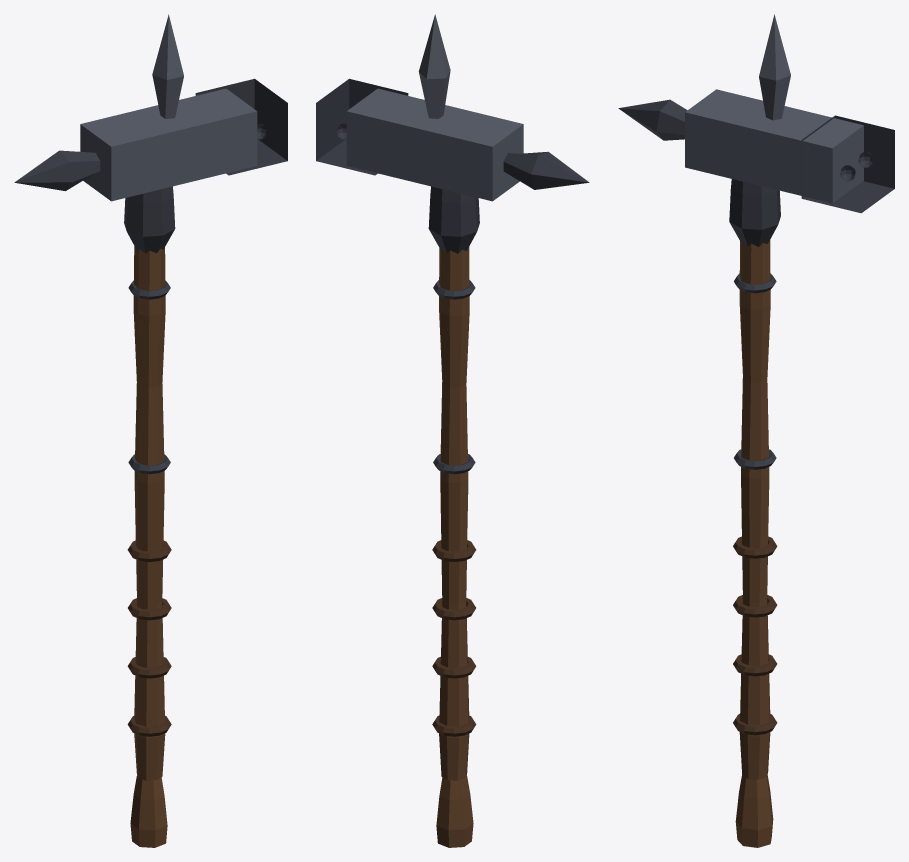
File: staff_warhammer.glb
The picture shows the model from 3 angles, left to right: view 1: azimuth 30°, elevation 25°; view 2: azimuth 150°, elevation 25°; view 3: azimuth 330°, elevation 25°; orthographic projection.
Visible parts, largest first — view 1: Wh_Shaft, Wh_Head, Wh_Face, Wh_Neck, Wh_Butt, Wh_BackSpike, Wh_TopSpike, Wh_Wrap2, Wh_Wrap3, Wh_Wrap1; view 2: Wh_Head, Wh_Shaft, Wh_Face, Wh_Neck, Wh_Butt, Wh_BackSpike, Wh_TopSpike, Wh_Wrap2, Wh_Wrap3, Wh_Wrap1; view 3: Wh_Head, Wh_Shaft, Wh_Face, Wh_Neck, Wh_Butt, Wh_TopSpike, Wh_BackSpike, Wh_Wrap2, Wh_Wrap3, Wh_Wrap1.
Boxes of the visible parts, box(x1,y1,x2,y2) form: Wh_Shaft: box(133, 246, 165, 780); Wh_Head: box(80, 88, 257, 201); Wh_Face: box(195, 78, 287, 175); Wh_Neck: box(124, 186, 175, 253); Wh_Butt: box(130, 775, 167, 847); Wh_BackSpike: box(14, 150, 100, 191); Wh_TopSpike: box(152, 14, 183, 118); Wh_Wrap2: box(128, 598, 171, 620); Wh_Wrap3: box(127, 540, 171, 561); Wh_Wrap1: box(127, 657, 171, 678); Wh_Head: box(346, 88, 523, 201); Wh_Shaft: box(439, 247, 469, 780); Wh_Face: box(316, 78, 408, 175); Wh_Neck: box(428, 186, 479, 253); Wh_Butt: box(436, 775, 473, 847); Wh_BackSpike: box(503, 151, 589, 189); Wh_TopSpike: box(418, 14, 450, 118); Wh_Wrap2: box(432, 598, 475, 620); Wh_Wrap3: box(432, 540, 476, 561); Wh_Wrap1: box(432, 656, 476, 678); Wh_Head: box(685, 89, 863, 203); Wh_Shaft: box(739, 240, 770, 779); Wh_Face: box(801, 115, 894, 213); Wh_Neck: box(729, 179, 780, 246); Wh_Butt: box(735, 775, 773, 847); Wh_TopSpike: box(759, 14, 790, 120); Wh_BackSpike: box(618, 99, 687, 140); Wh_Wrap2: box(733, 595, 777, 617); Wh_Wrap3: box(733, 536, 777, 558); Wh_Wrap1: box(733, 654, 777, 676).
Size of the model in its own units: 0.74 by 2.26 by 0.165.
